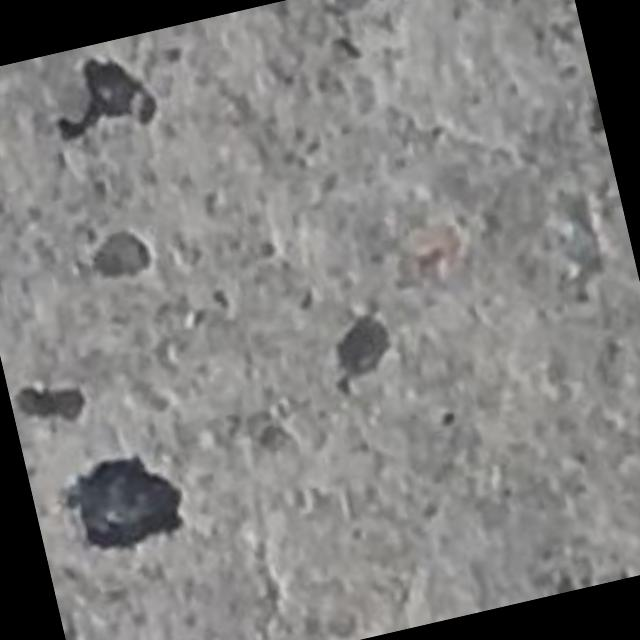peeling plaster: (68, 454, 183, 550)
